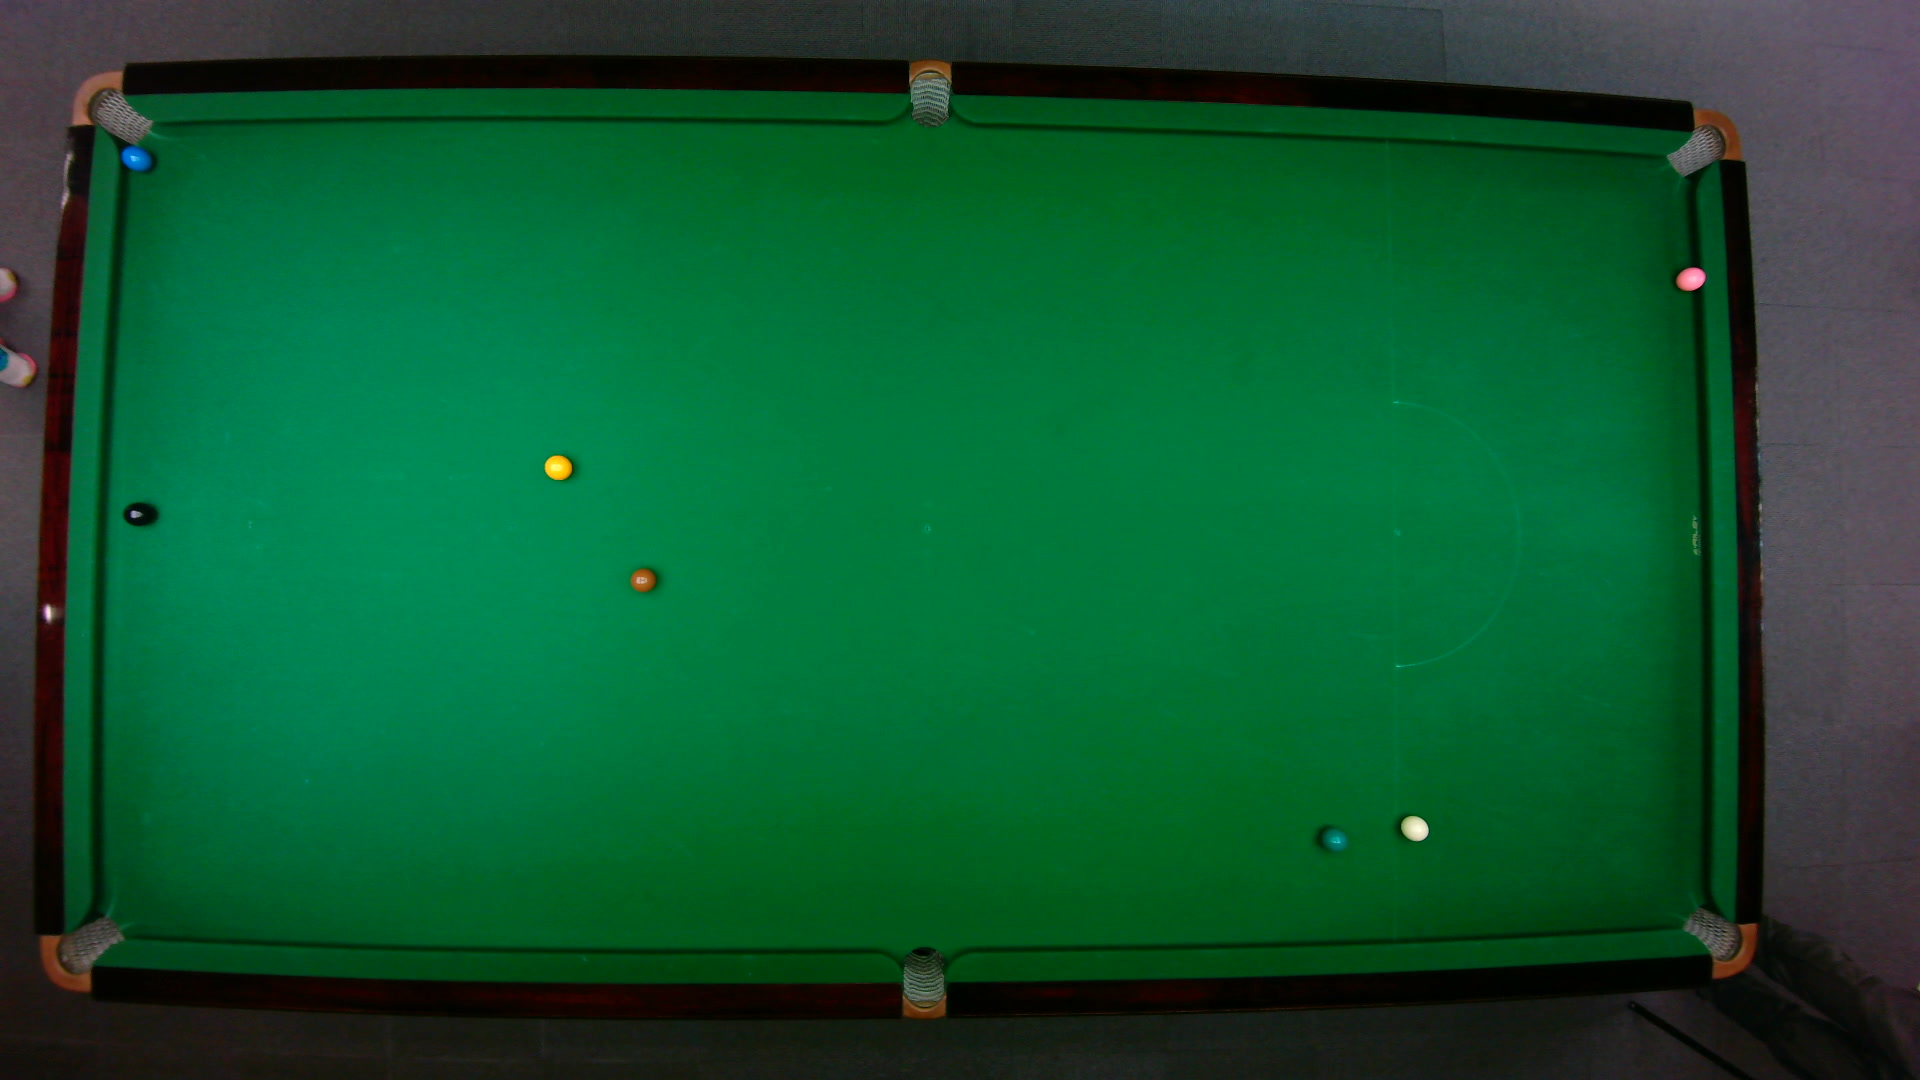bag: (38, 913, 125, 992), (69, 69, 153, 145), (1679, 905, 1756, 978), (1663, 107, 1741, 177), (901, 944, 944, 1021), (909, 57, 949, 128)
black: (120, 500, 154, 526)
blue: (117, 144, 152, 171)
brown: (628, 566, 657, 592)
green: (1317, 825, 1348, 852)
pink: (1673, 264, 1706, 291)
white: (1398, 814, 1429, 841)
yellow: (542, 452, 572, 480)
zone: (1391, 400, 1520, 667)
